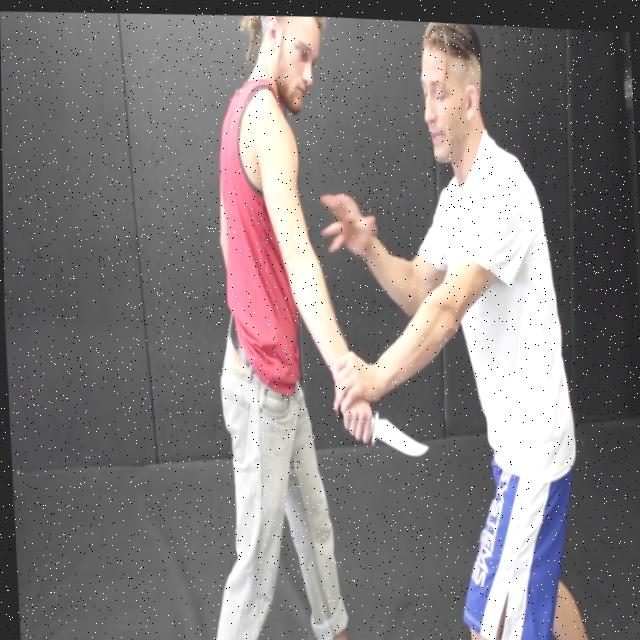knife: (369, 398, 427, 467)
